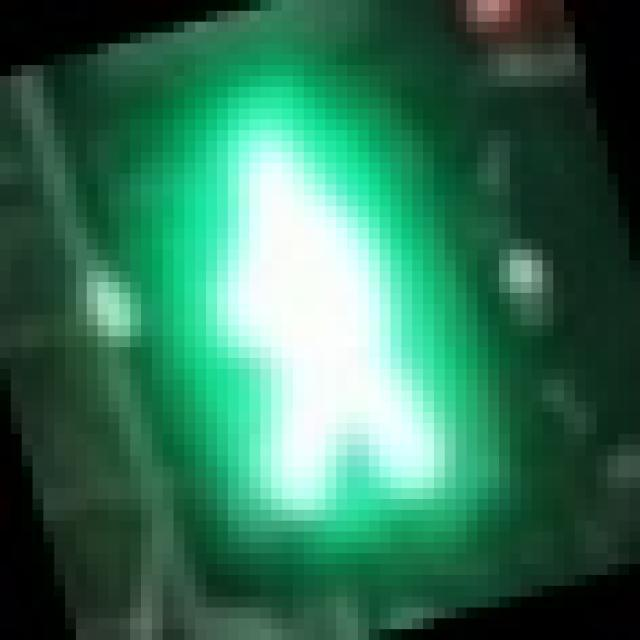geen-crossing: (120, 65, 478, 542)
